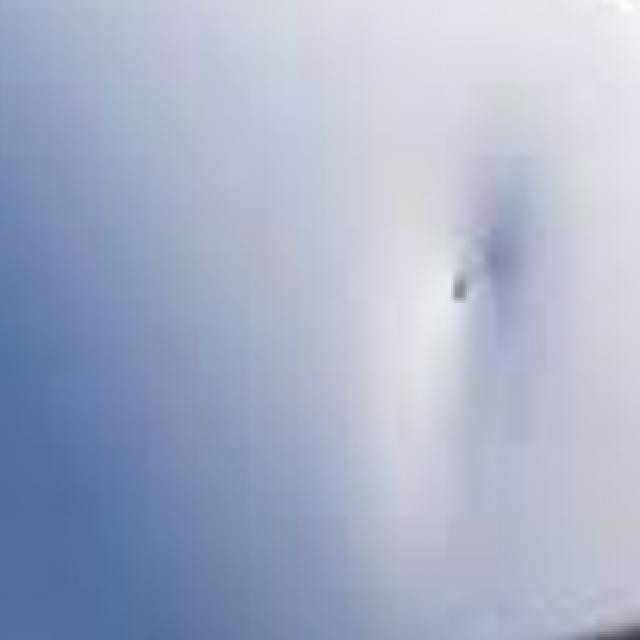dents: (404, 173, 552, 430)
